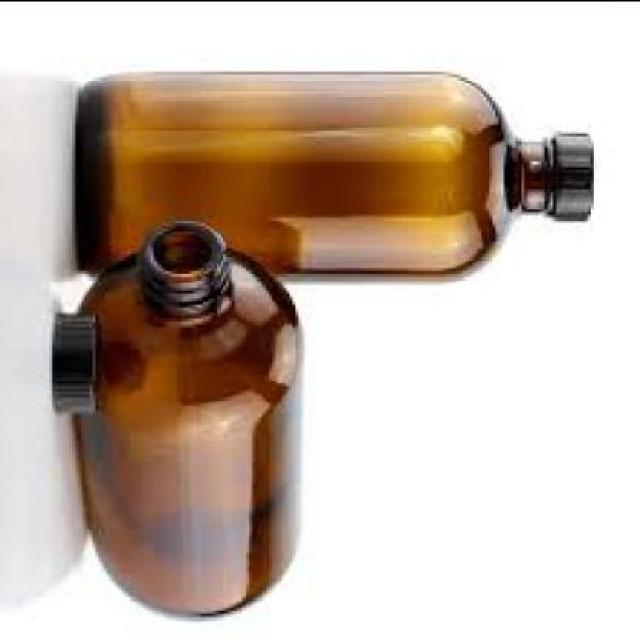glass: (75, 74, 594, 286), (74, 225, 301, 623)
plastic: (56, 317, 104, 415)
